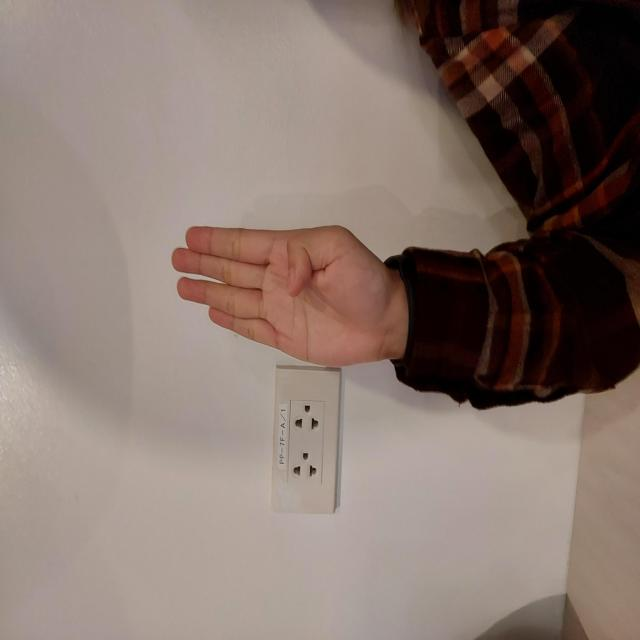B: (265, 167, 424, 399)
